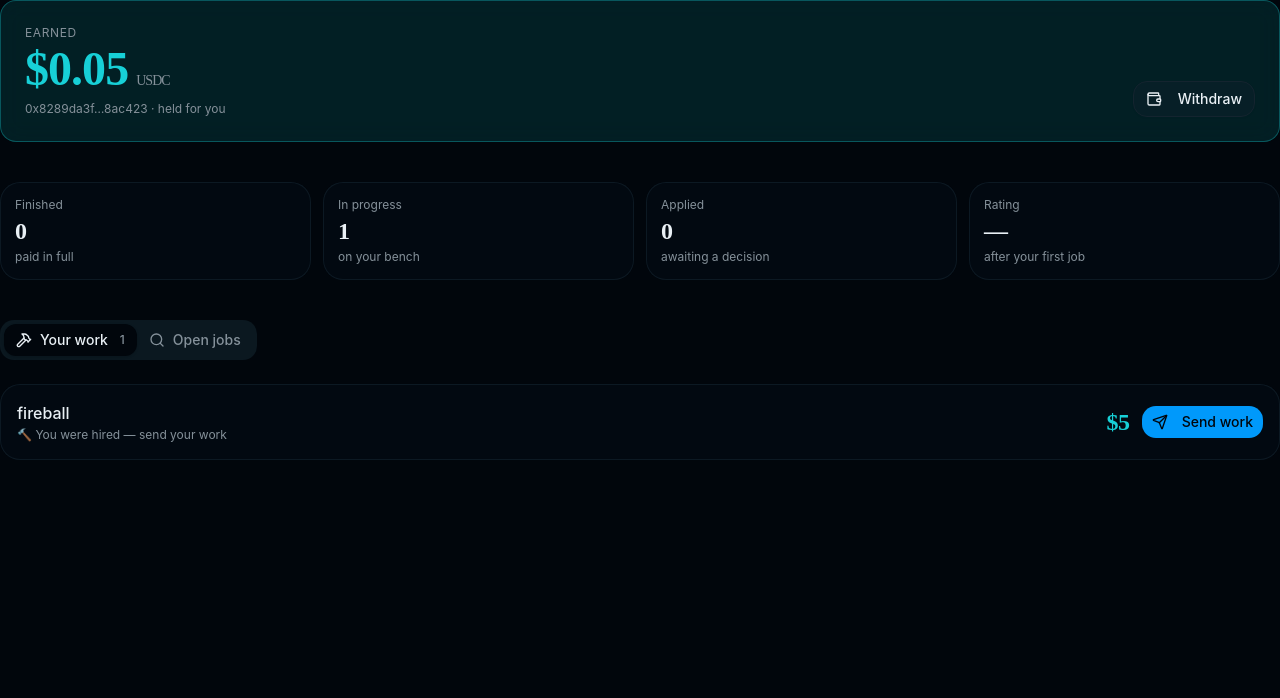
what the delivery box tells them › does not claim a stage count on a single-stage job
Click the button "Send work": (1202, 422) [1142,406,1263,438]
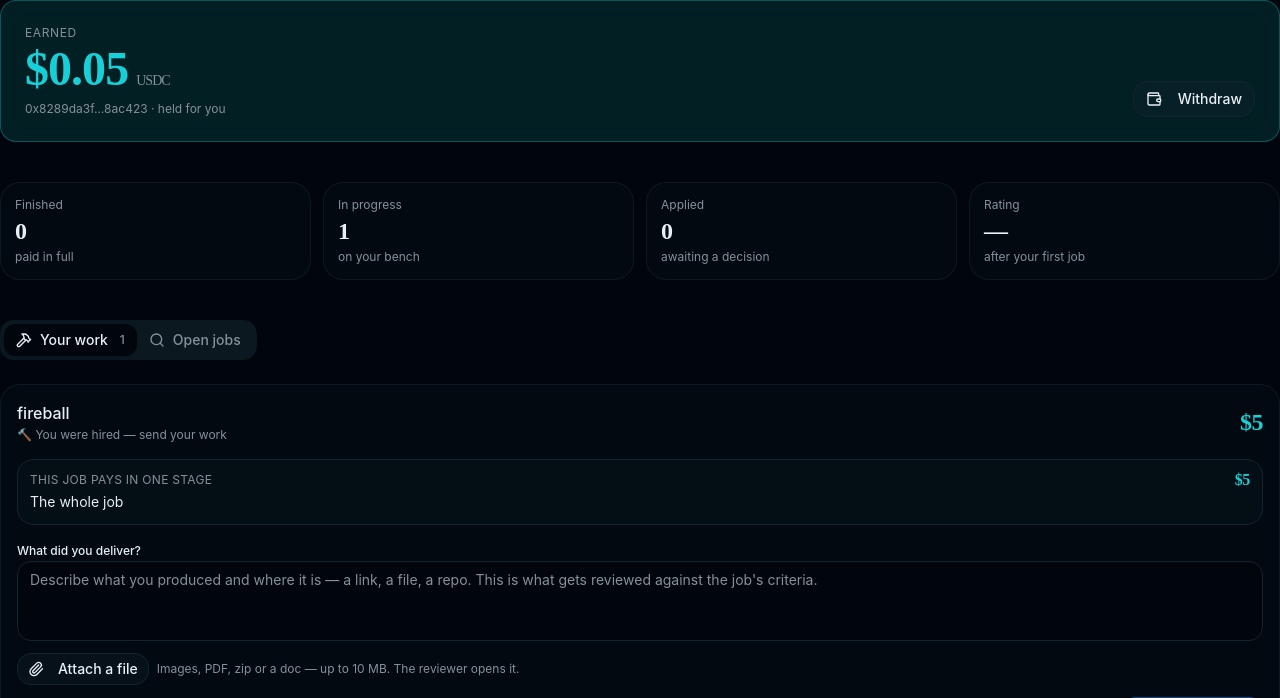
Check: the text "This job pays in one stage" is shown, box [30,472,212,488]
